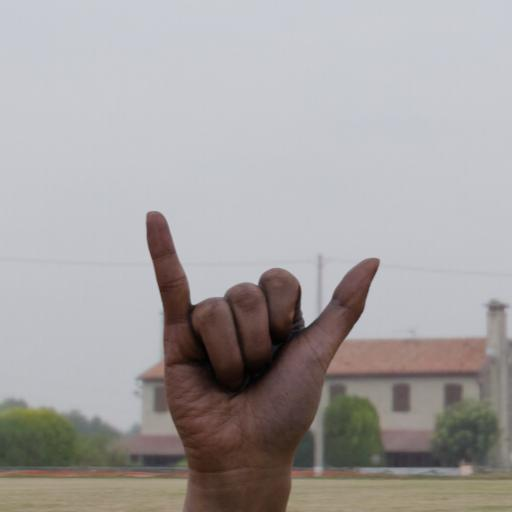Y: (131, 206, 385, 512)
